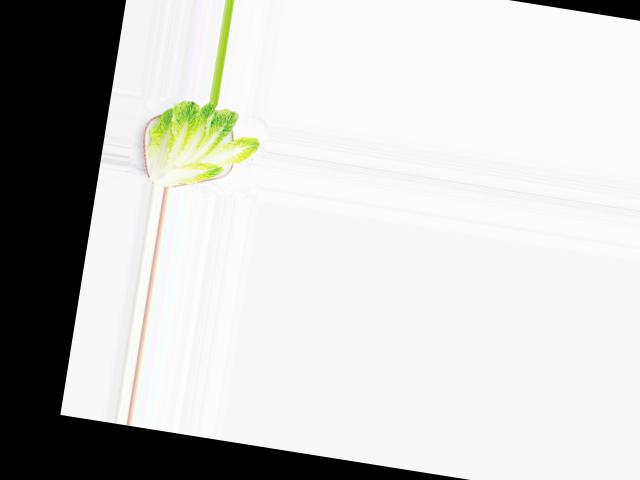lettuce: (135, 92, 267, 197)
